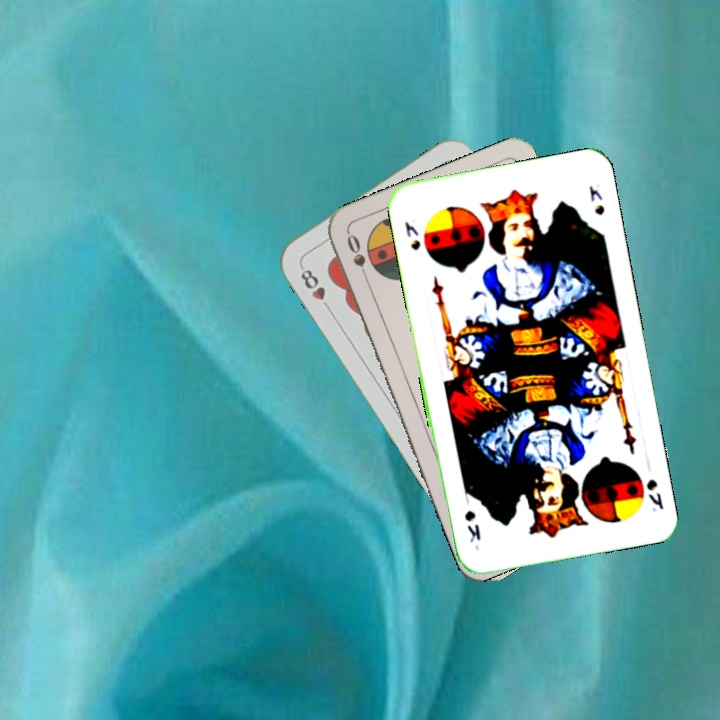H8: (296, 262, 335, 314)
SK: (642, 475, 666, 515), (400, 217, 423, 253)
SO: (342, 229, 372, 287)
